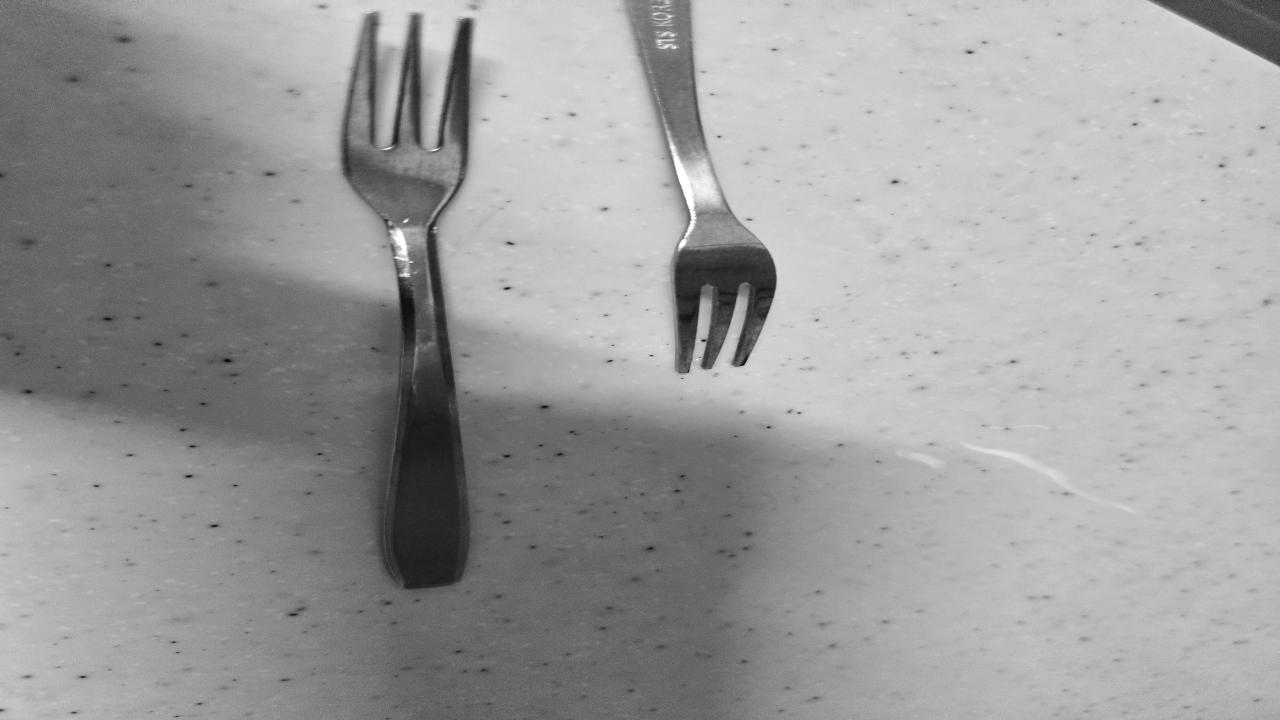fork: (333, 9, 487, 580), (607, 0, 780, 372)
